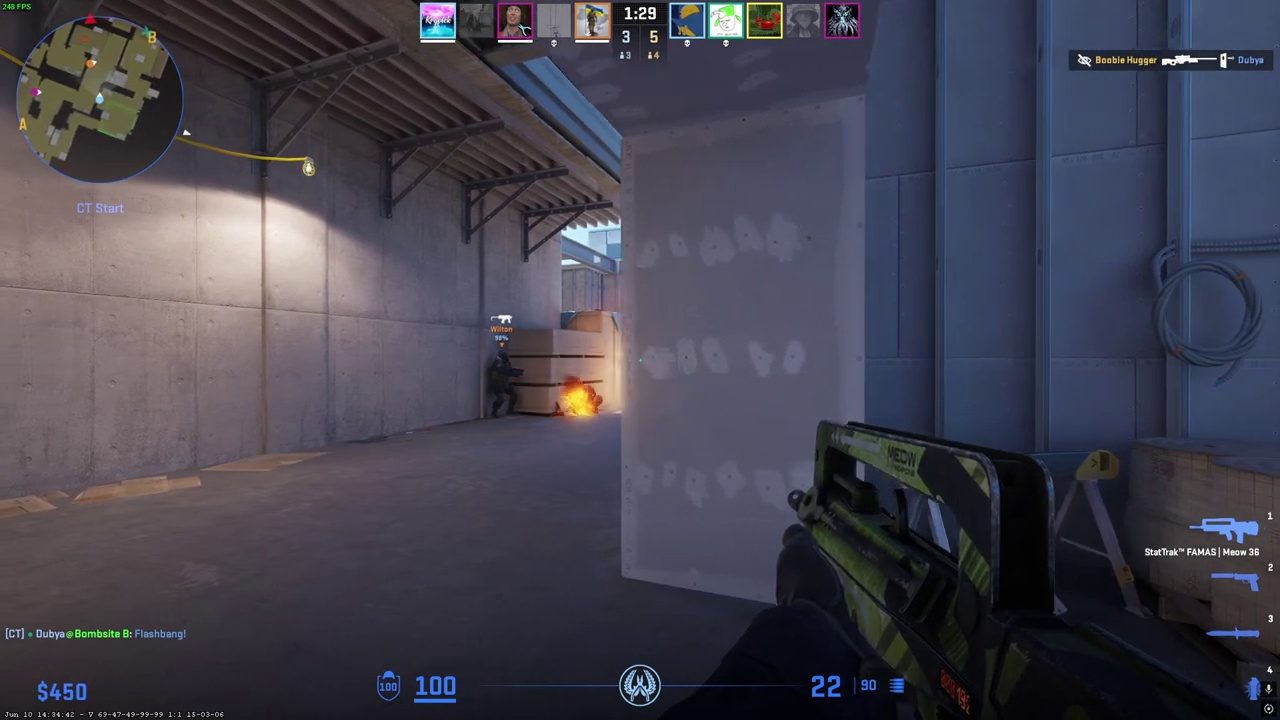CT: (487, 349, 519, 418)
